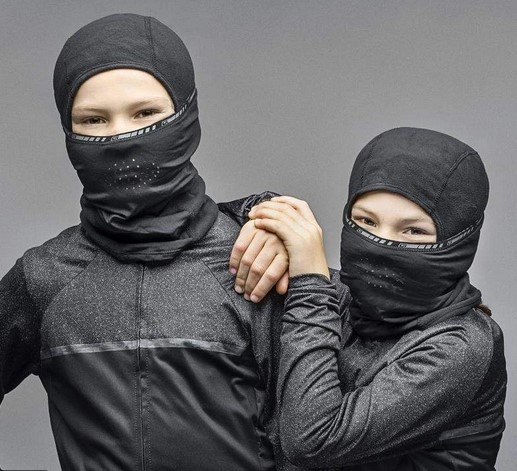face_with_mask: (56, 29, 199, 218), (343, 132, 468, 314)
